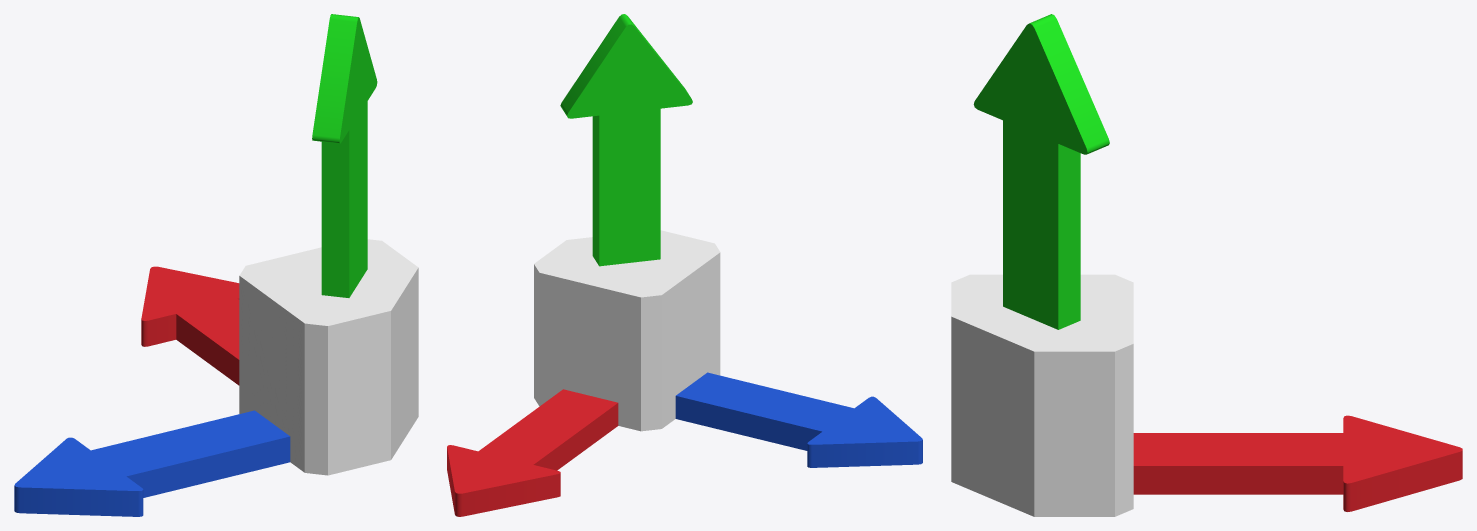
The model's file is gizmo.fbx.
3 renders of one model, left to right at view 1: azimuth 30°, elevation 25°; view 2: azimuth 150°, elevation 25°; view 3: azimuth 270°, elevation 25°, orthographic. The views are drawn at different scales.
Parts seen in each view (by area): view 1: Gizmo, Arrow1, Arrow3, Arrow2; view 2: Gizmo, Arrow3, Arrow1, Arrow2; view 3: Gizmo, Arrow3, Arrow2.
Part boxes in pixels (x1,y1,x2,y2): Gizmo: (239,239,418,475); Arrow1: (14,410,290,516); Arrow3: (312,14,377,297); Arrow2: (141,266,239,385); Gizmo: (534,230,720,431); Arrow3: (560,14,692,266); Arrow1: (675,372,922,467); Arrow2: (447,389,618,516); Gizmo: (951,274,1133,516); Arrow3: (973,14,1109,329); Arrow2: (1133,415,1462,511).
Size of the model in its own units: 28.02 by 27.8 by 28.03.
